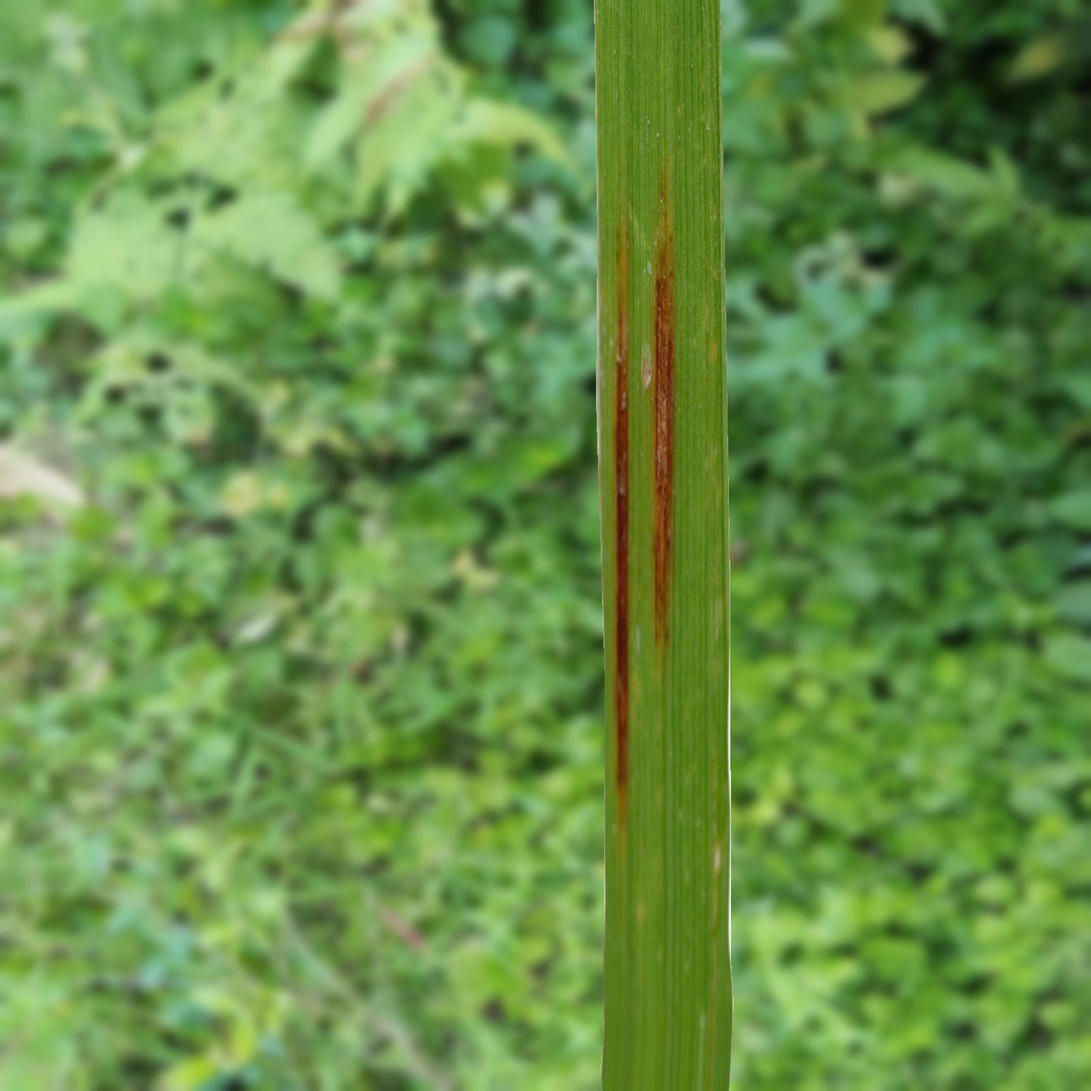LEAF: (594, 0, 733, 1090)
NBS: (653, 175, 675, 643), (614, 224, 629, 826)
